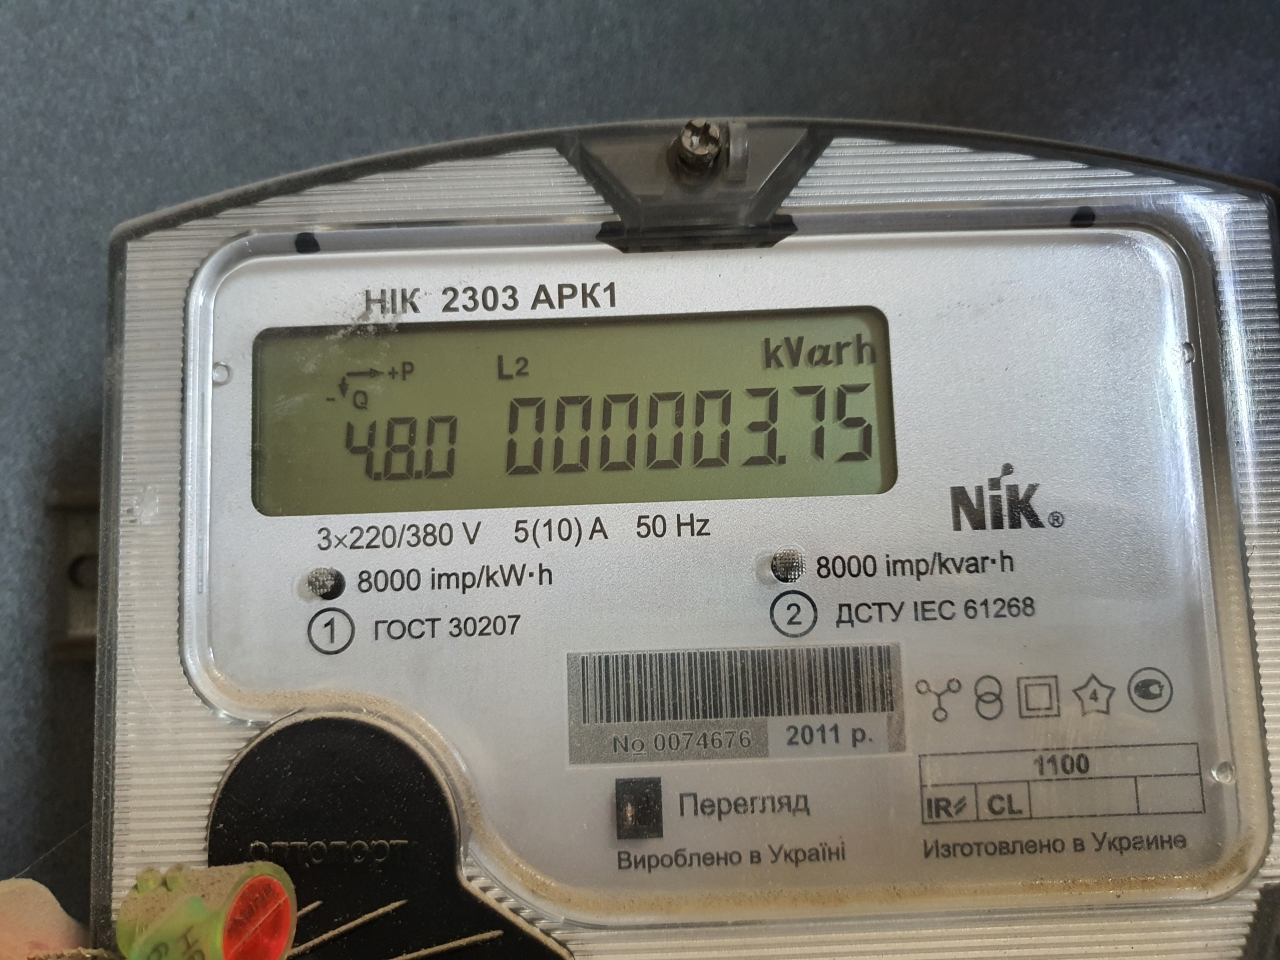screen: (222, 276, 932, 552)
